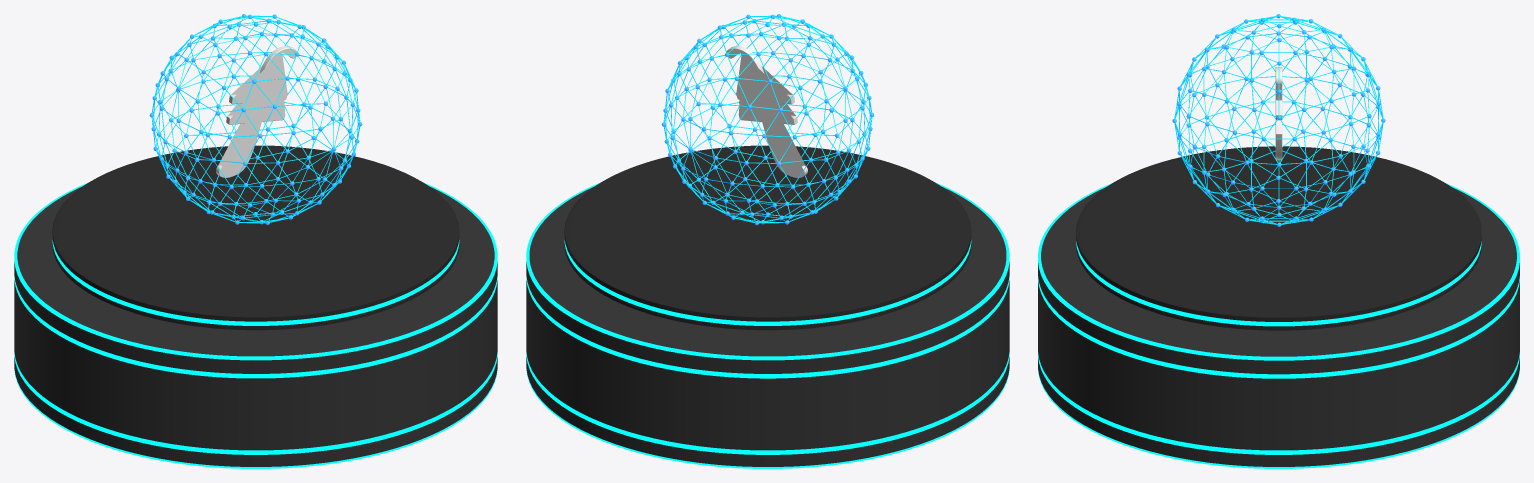
Rendered from filecoin1.fbx.
3 renders of one model, left to right at view 1: azimuth 30°, elevation 25°; view 2: azimuth 150°, elevation 25°; view 3: azimuth 270°, elevation 25°, orthographic.
Visible parts, largest first — view 1: Cylinder, Cylinder.001, Icosphere.001, Vert, Sphere.044; view 2: Cylinder, Cylinder.001, Icosphere.001, Vert, Sphere.044; view 3: Cylinder, Cylinder.001, Icosphere.001, Sphere.044, Vert.
Part boxes in pixels (x1,y1,x2,y2): Cylinder: (14, 183, 497, 468); Cylinder.001: (52, 145, 459, 330); Icosphere.001: (151, 15, 360, 223); Vert: (216, 46, 297, 177); Sphere.044: (149, 14, 362, 224); Cylinder: (526, 182, 1009, 468); Cylinder.001: (564, 145, 971, 330); Icosphere.001: (663, 15, 872, 223); Vert: (726, 46, 807, 178); Sphere.044: (661, 14, 873, 225); Cylinder: (1038, 183, 1519, 468); Cylinder.001: (1076, 146, 1481, 330); Icosphere.001: (1174, 16, 1383, 224); Sphere.044: (1172, 14, 1385, 226); Vert: (1275, 67, 1282, 160).
Size of the model in its own units: 947 by 745 by 947.
